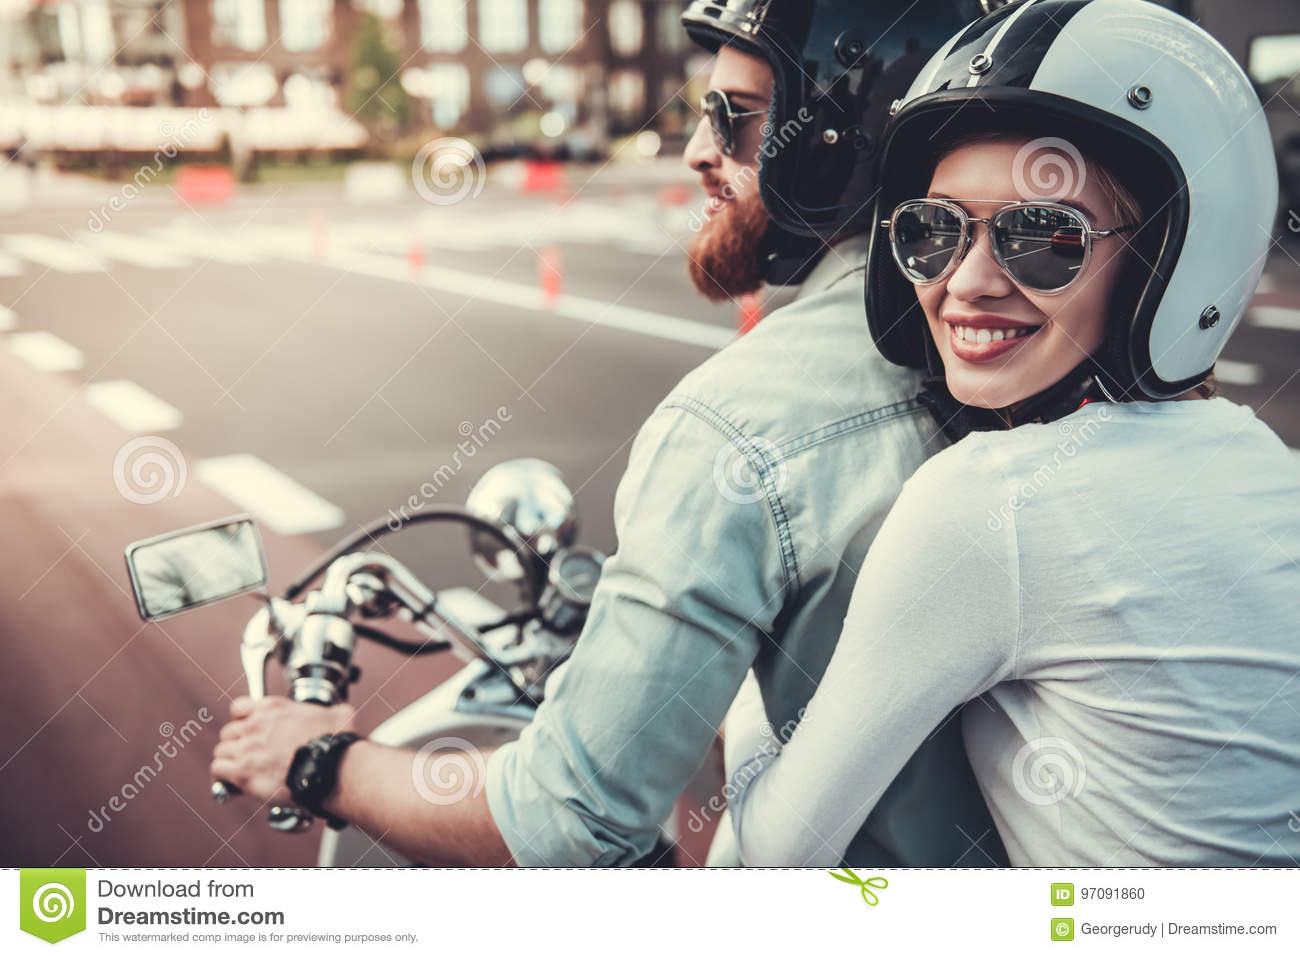helmet: (887, 8, 1271, 391), (701, 4, 917, 207)
